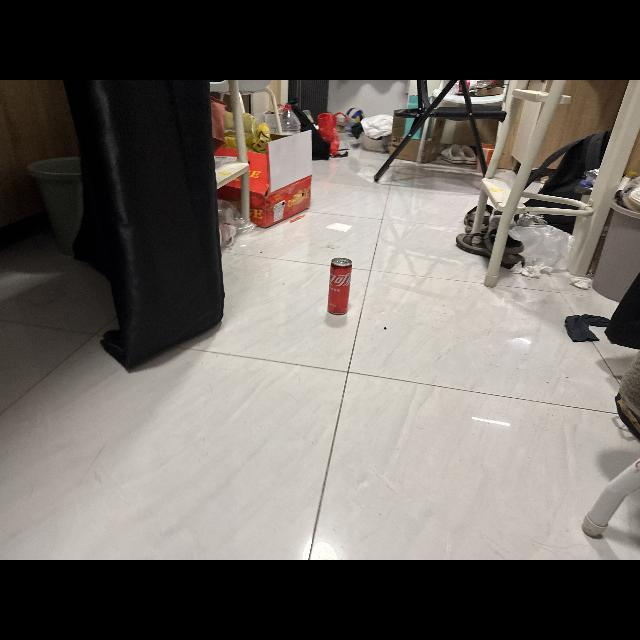Cola: (319, 252, 361, 321)
